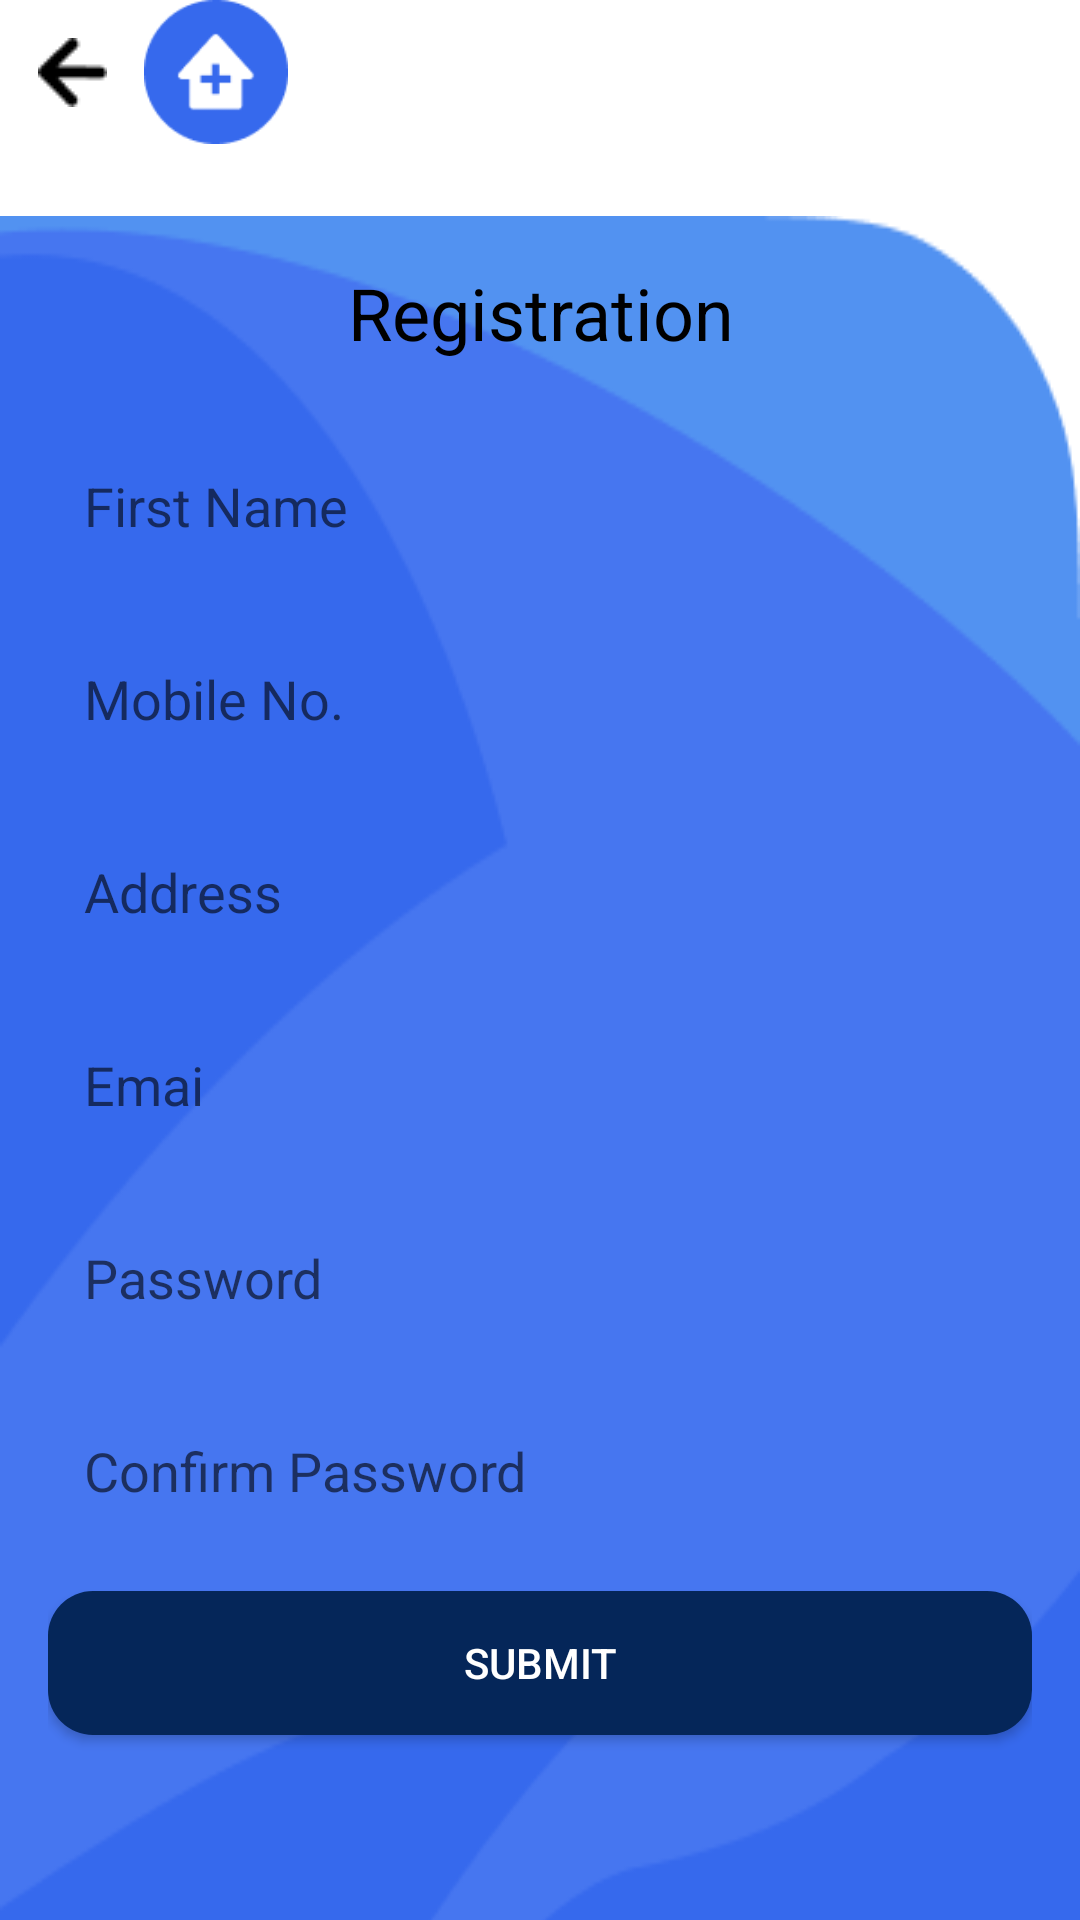

Named icons in this screenshot (1080w x 1920h) and their centers, [x,y]:
back arrow: [72,72]
